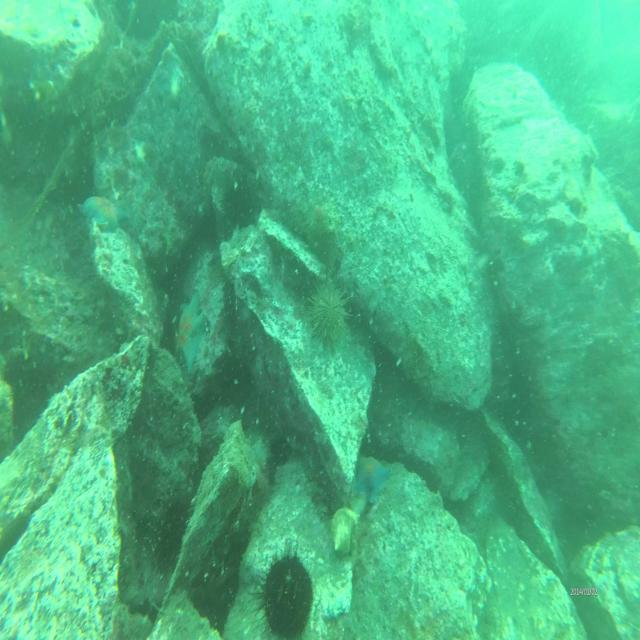echinus: (254, 546, 324, 640), (150, 495, 192, 587), (306, 276, 351, 348), (220, 180, 265, 228)
starfish: (173, 295, 209, 378), (72, 188, 128, 239), (357, 450, 392, 504)
